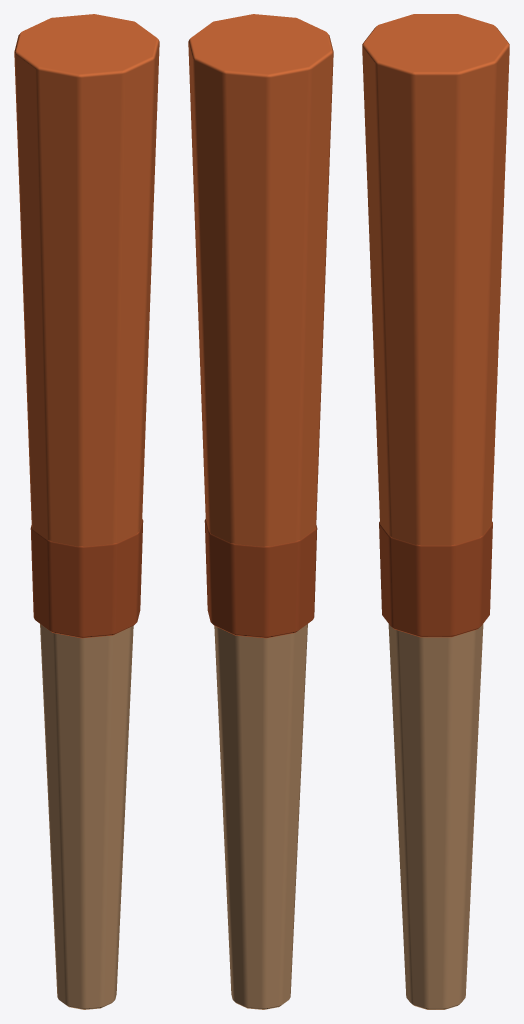
Rendered from GoldFxArm.glb.
3 views of the same model, side by side, from view 1: azimuth 30°, elevation 25°; view 2: azimuth 150°, elevation 25°; view 3: azimuth 270°, elevation 25° (orthographic).
Parts seen in each view (by area): view 1: GoldFxArm.001; view 2: GoldFxArm.001; view 3: GoldFxArm.001.
Boxes of the visible parts, bbox=[...] form: GoldFxArm.001: bbox=[14, 14, 159, 1009]; GoldFxArm.001: bbox=[188, 14, 333, 1009]; GoldFxArm.001: bbox=[362, 14, 509, 1009].
Size of the model in its own units: 0.1349 by 1 by 0.1399.
